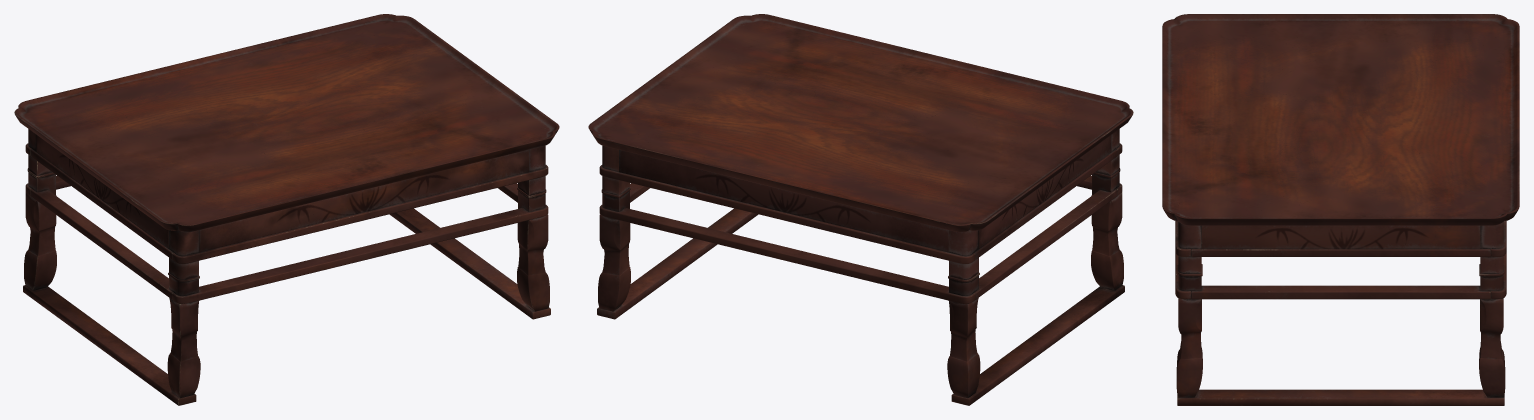
Rendered from SM_TongyeongTable.fbx.
3 views of the same model, side by side, from view 1: azimuth 30°, elevation 25°; view 2: azimuth 150°, elevation 25°; view 3: azimuth 270°, elevation 25° (orthographic). The views are drawn at different scales.
Visible parts, largest first — view 1: SM_TongyeongTable; view 2: SM_TongyeongTable; view 3: SM_TongyeongTable.
Part boxes in pixels (<box>): SM_TongyeongTable: <box>14,14,559,405</box>; SM_TongyeongTable: <box>588,14,1133,405</box>; SM_TongyeongTable: <box>1162,14,1519,405</box>.
Bounding box in the file's own units: 60.93 × 26.96 × 44.93.
Materials: 1 (1 with a texture image).
